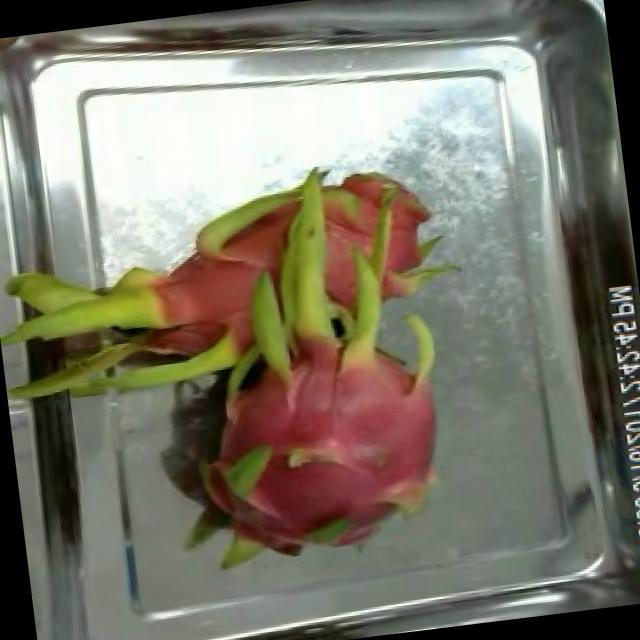Fruit: (0, 33, 35, 65)
